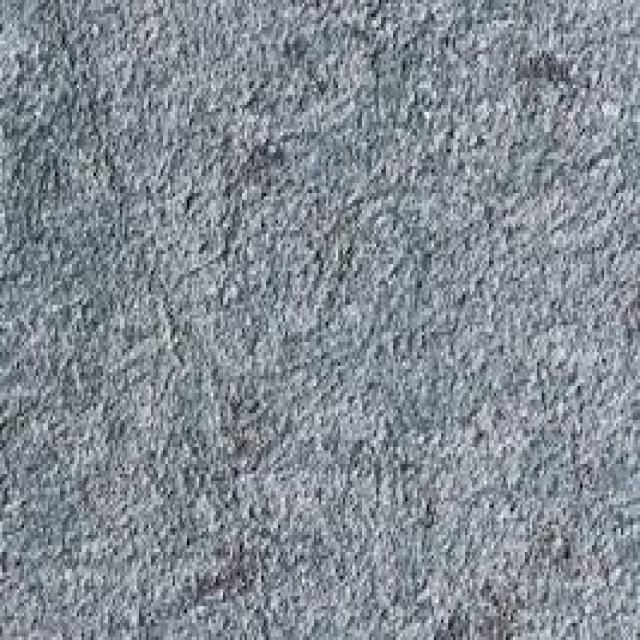Metamorphic: (2, 7, 624, 630)
